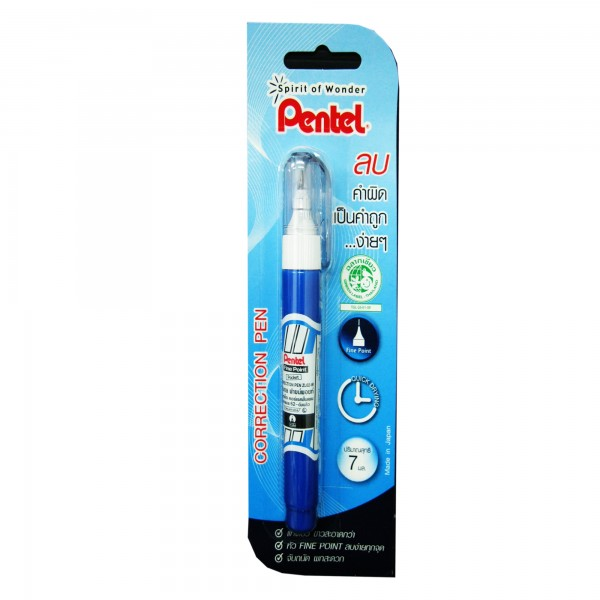Correction_fluid: (264, 147, 337, 539)
